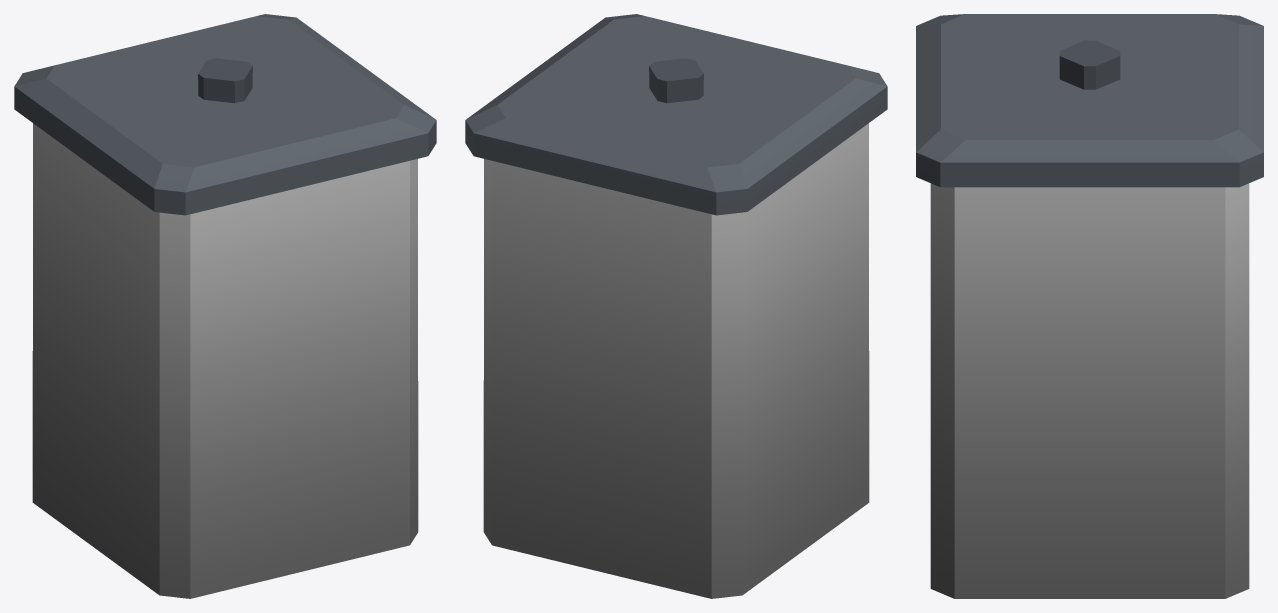
The model's file is KitchenProps_17.fbx.
3 views of the same model, side by side, from view 1: azimuth 30°, elevation 25°; view 2: azimuth 150°, elevation 25°; view 3: azimuth 270°, elevation 25° (orthographic). The views are drawn at different scales.
Visible parts, largest first — view 1: KitchenProps_17; view 2: KitchenProps_17; view 3: KitchenProps_17.
Part boxes in pixels (<box>): KitchenProps_17: <box>14,14,436,598</box>; KitchenProps_17: <box>465,14,887,598</box>; KitchenProps_17: <box>916,14,1263,598</box>.
Bounding box in the file's own units: 9.86 × 14.95 × 9.86.
